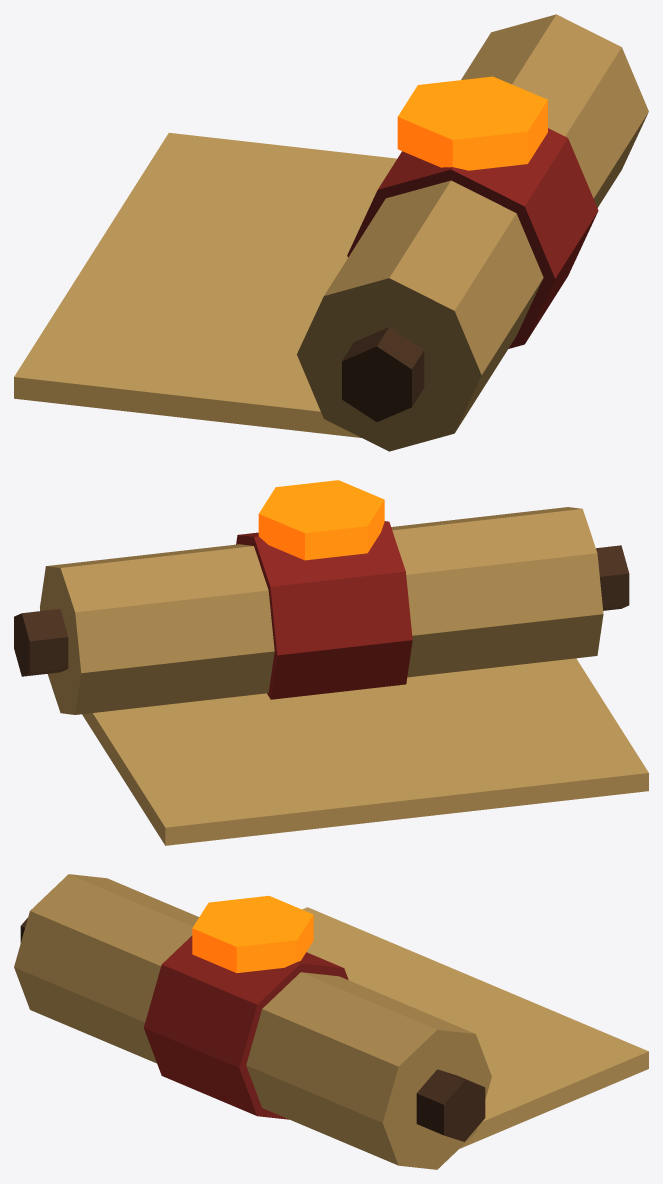
File: scroll_of_inferno.glb
3 renders of one model, top to bottom at view 1: azimuth 30°, elevation 25°; view 2: azimuth 150°, elevation 25°; view 3: azimuth 270°, elevation 25°, orthographic. The views are drawn at different scales.
Visible parts, largest first — view 1: scroll_of_inferno; view 2: scroll_of_inferno; view 3: scroll_of_inferno.
Part boxes in pixels (left/top/right/bottom): scroll_of_inferno: left=14, top=14, right=648, bottom=451; scroll_of_inferno: left=14, top=480, right=648, bottom=845; scroll_of_inferno: left=14, top=874, right=648, bottom=1169.
Bounding box in the file's own units: 0.822 × 0.2563 × 0.822.
